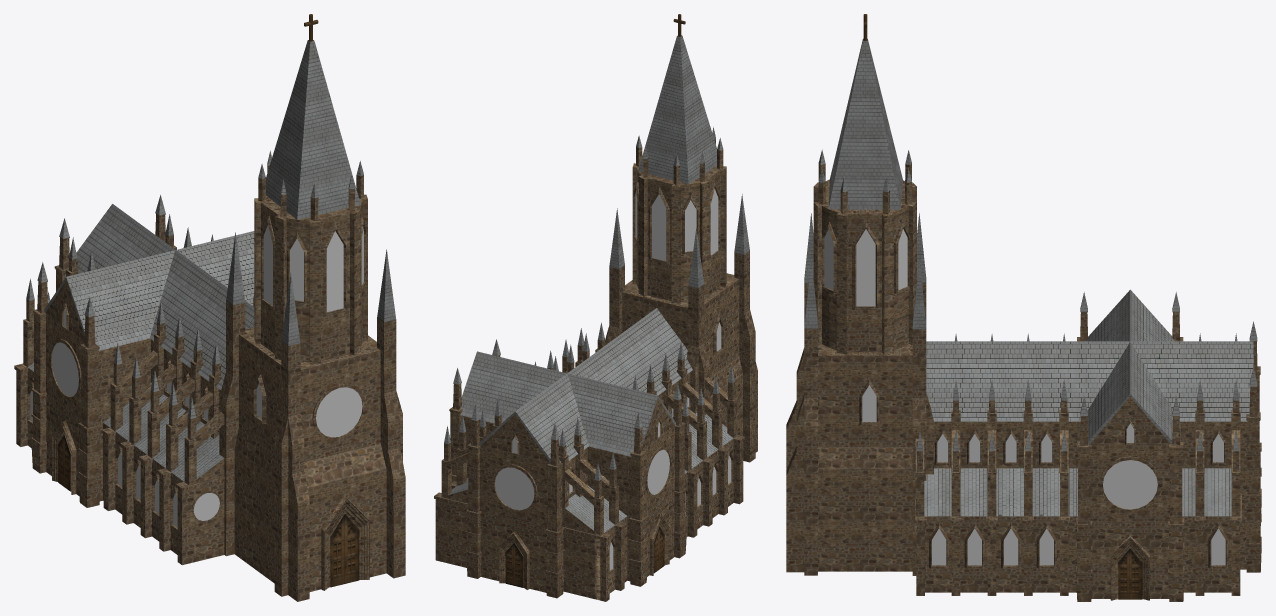
The model's file is church.fbx.
The picture shows the model from 3 angles, left to right: view 1: azimuth 30°, elevation 25°; view 2: azimuth 150°, elevation 25°; view 3: azimuth 270°, elevation 25°; orthographic projection. The views are drawn at different scales.
Visible parts, largest first — view 1: polySurface283.003; view 2: polySurface283.003; view 3: polySurface283.003.
Boxes of the visible parts, x1,y1,x2,y2 form: polySurface283.003: (14, 14, 405, 601); polySurface283.003: (434, 14, 757, 601); polySurface283.003: (786, 14, 1261, 601).
Bounding box in the file's own units: 1894 × 4222 × 3420.
